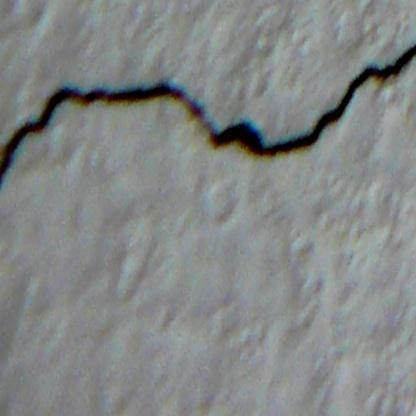Cracks: (0, 38, 416, 212)
